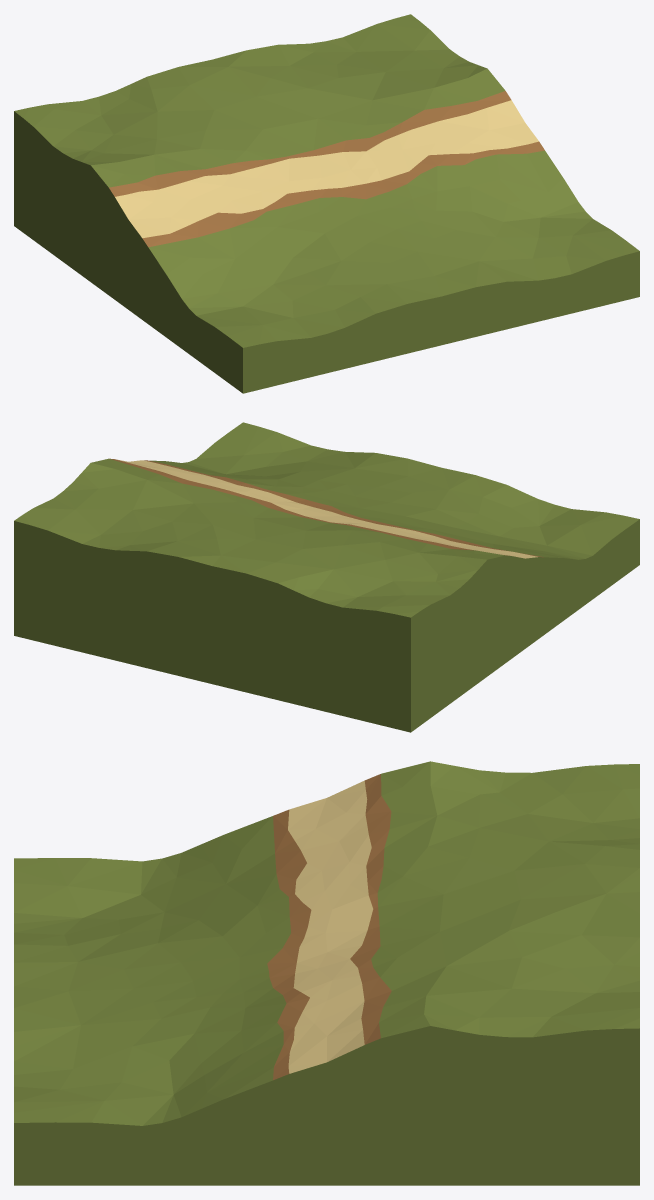
The model's file is Terrian_Road_Straight_Hill-02.fbx.
3 views of the same model, one above another, from view 1: azimuth 30°, elevation 25°; view 2: azimuth 150°, elevation 25°; view 3: azimuth 270°, elevation 25° (orthographic). The views are drawn at different scales.
Visible parts, largest first — view 1: Terrian_Road_Straight_Hill-02; view 2: Terrian_Road_Straight_Hill-02; view 3: Terrian_Road_Straight_Hill-02.
Boxes of the visible parts, box(x1,y1,x2,y2) form: Terrian_Road_Straight_Hill-02: box(14, 14, 639, 393); Terrian_Road_Straight_Hill-02: box(14, 422, 639, 732); Terrian_Road_Straight_Hill-02: box(14, 761, 639, 1185).
Size of the model in its own units: 3600 by 1031 by 3600.
1 material, 1 textured.
